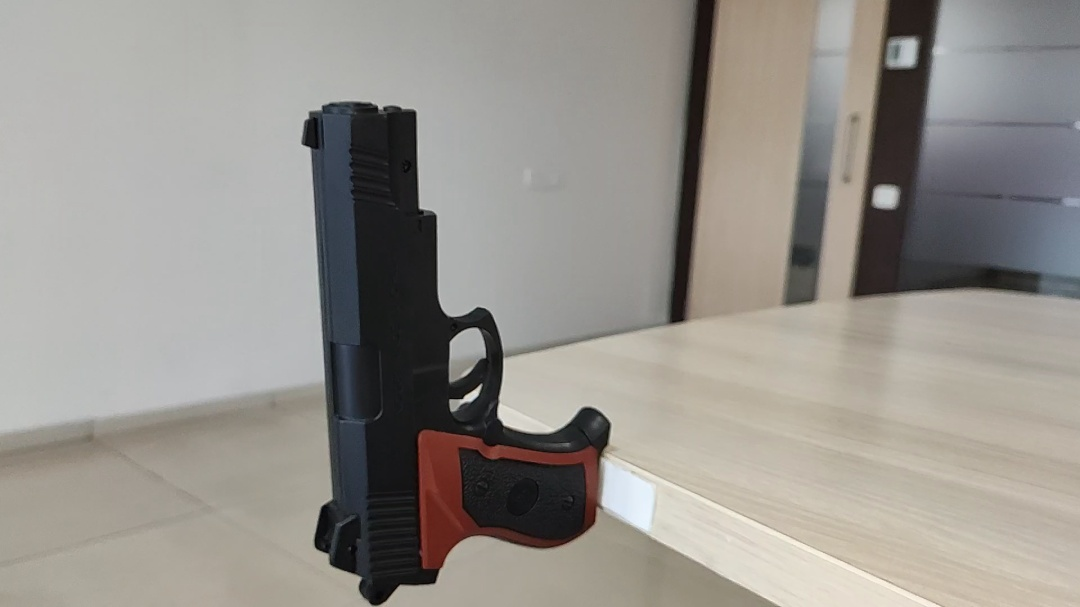gun: (292, 91, 613, 606)
